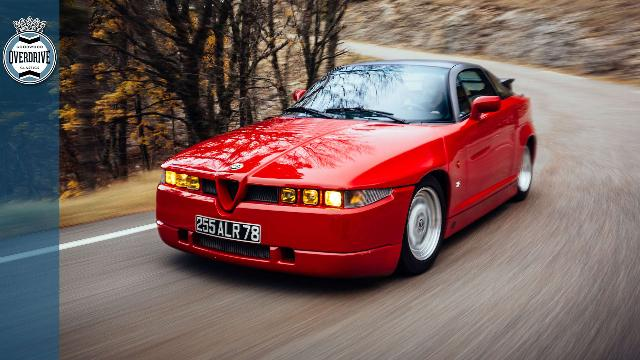alpha-romeo: (155, 60, 537, 282)
